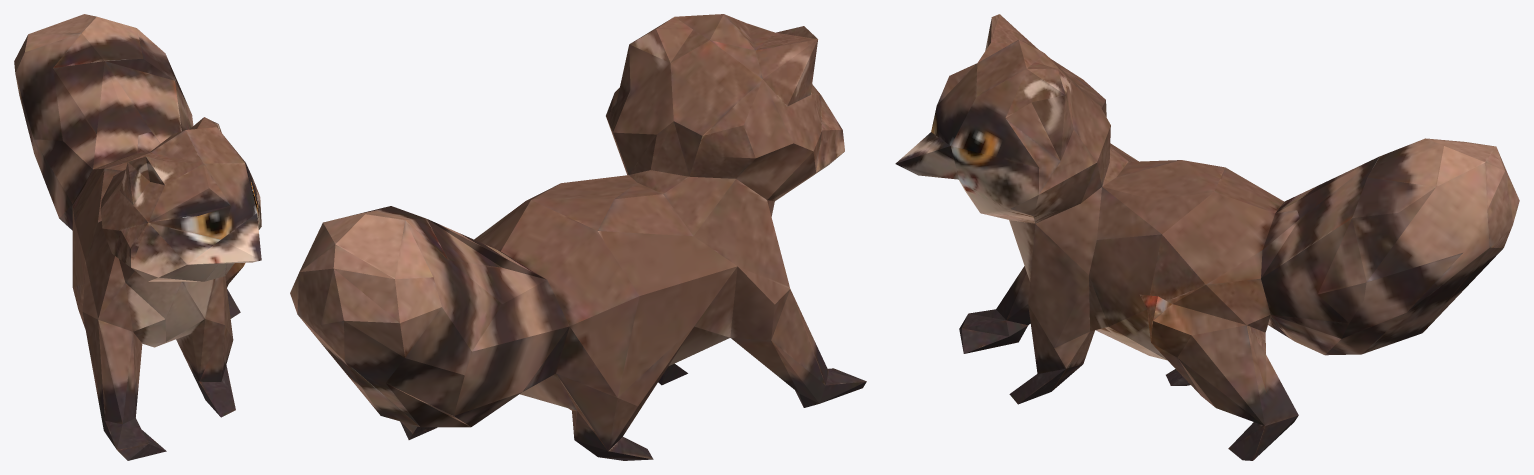
Rendered from raccoon-scurry-lod.glb.
3 views of the same model, side by side, from view 1: azimuth 30°, elevation 25°; view 2: azimuth 150°, elevation 25°; view 3: azimuth 270°, elevation 25° (orthographic). The views are drawn at different scales.
Parts seen in each view (by area): view 1: output_unwrapped; view 2: output_unwrapped; view 3: output_unwrapped.
Part boxes in pixels (x1,y1,x2,y2): output_unwrapped: (14, 14, 261, 460); output_unwrapped: (290, 14, 866, 460); output_unwrapped: (895, 14, 1519, 460).
Size of the model in its own units: 0.5225 by 0.6 by 0.9888.
Materials: 1 (1 with a texture image).
